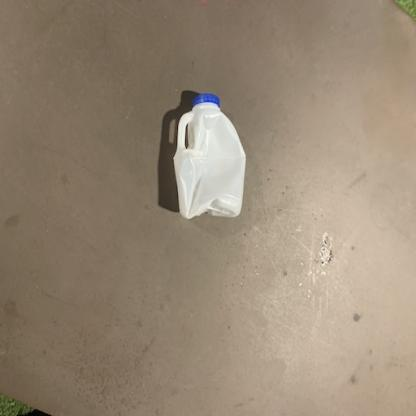trash: (171, 93, 248, 218)
